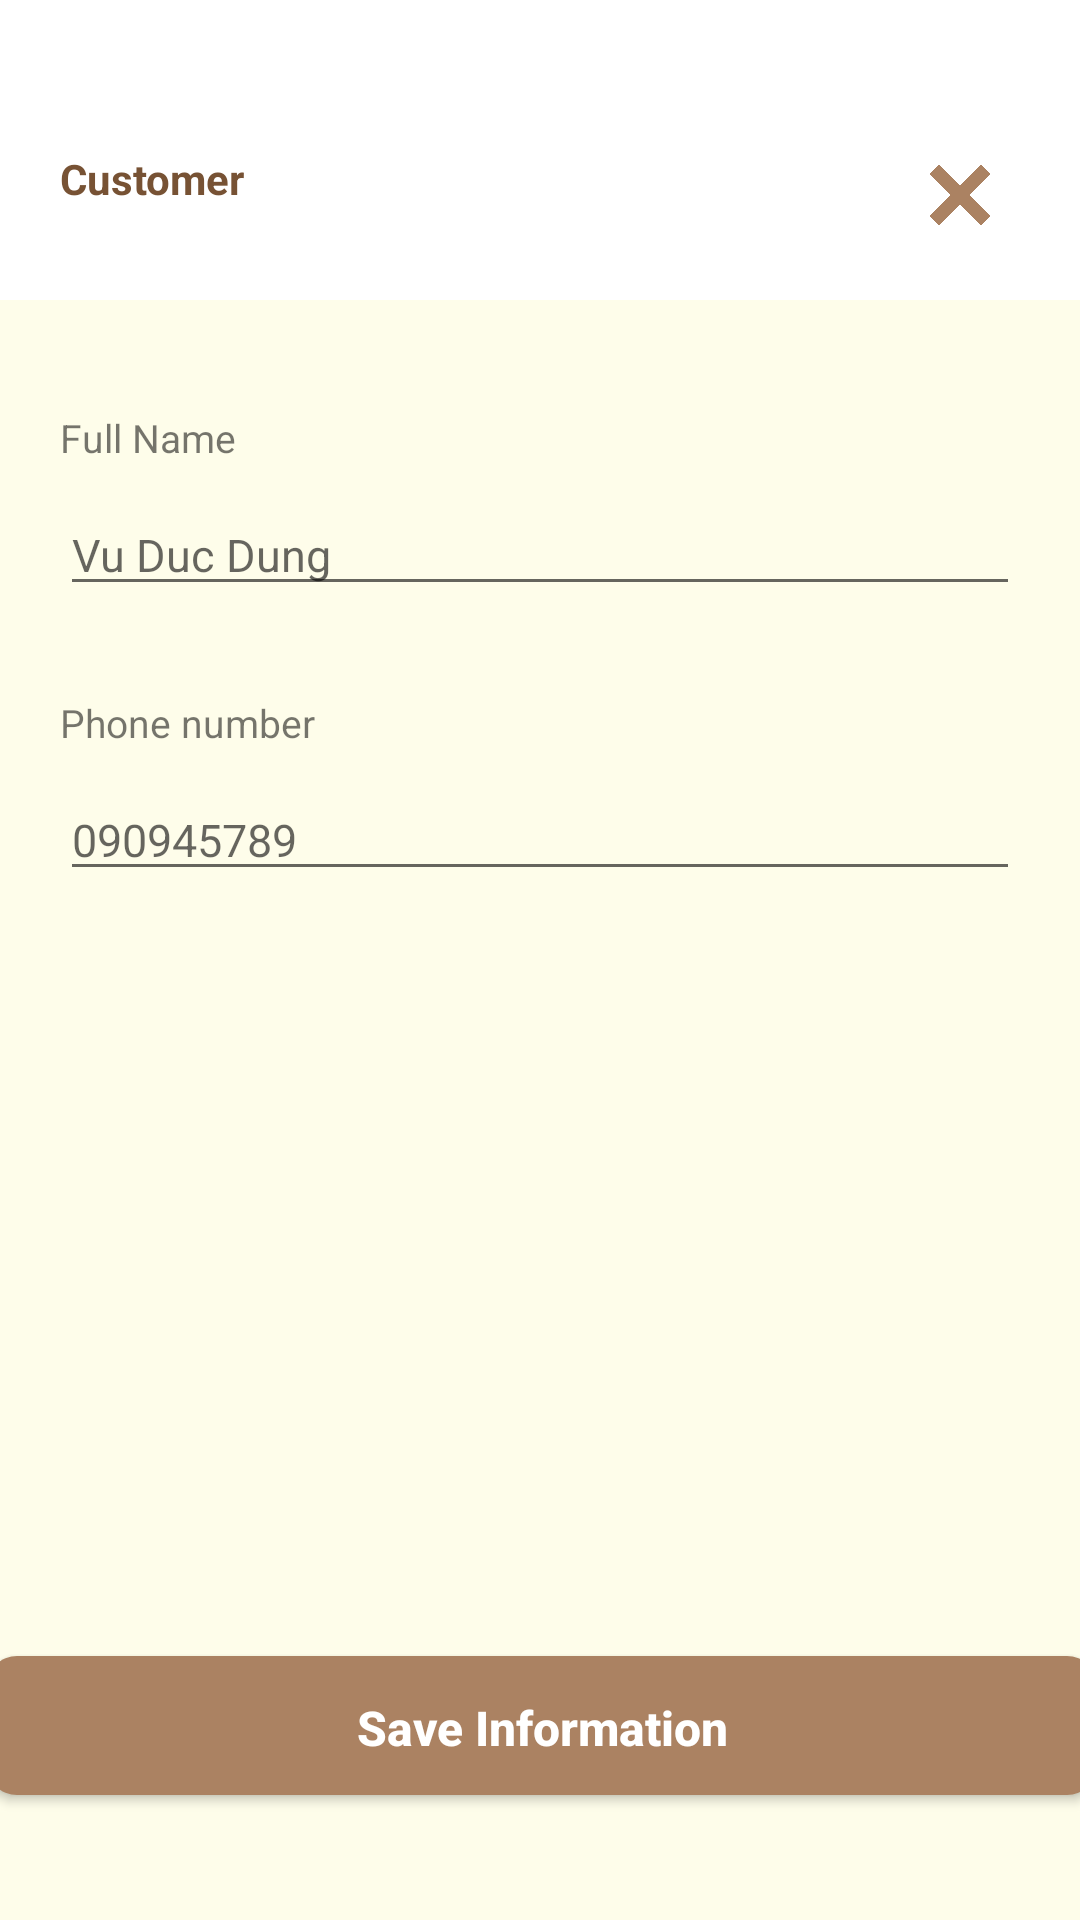

Icon bounding boxes for this 1080*1920 phone screenshot, format (x1, y1, x2, y2):
exit: (930, 165, 990, 225)
